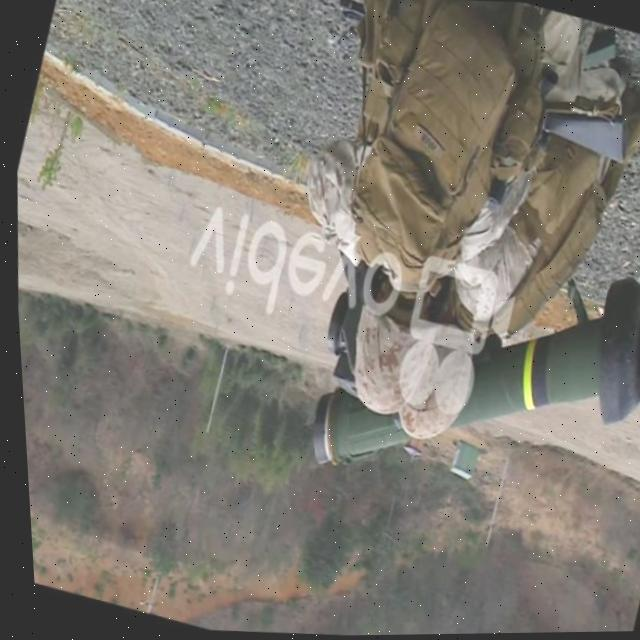rocket: (294, 202, 640, 544)
